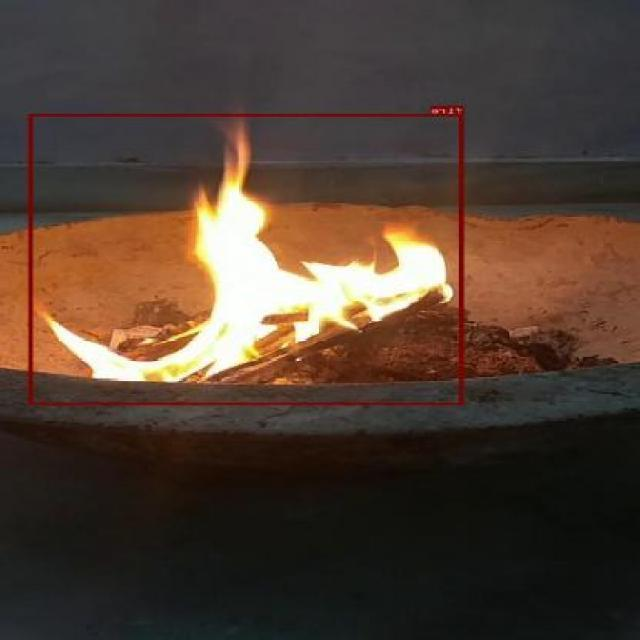Fire: (29, 113, 466, 404)
